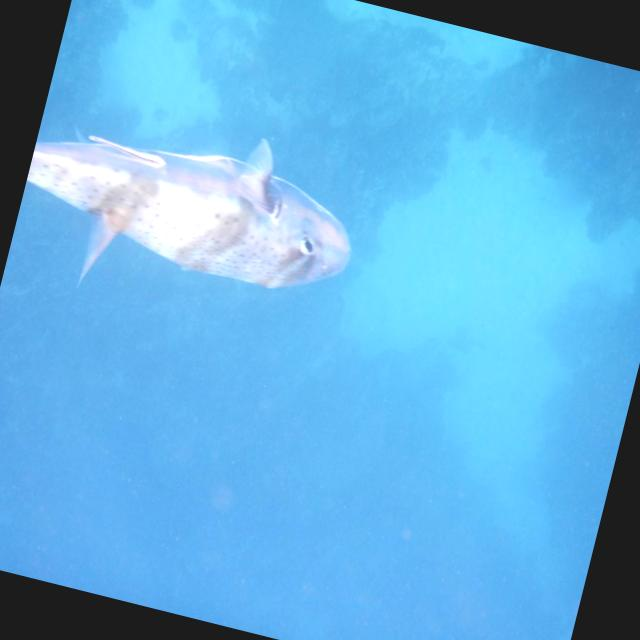Balon Baligi: (4, 82, 374, 352)
